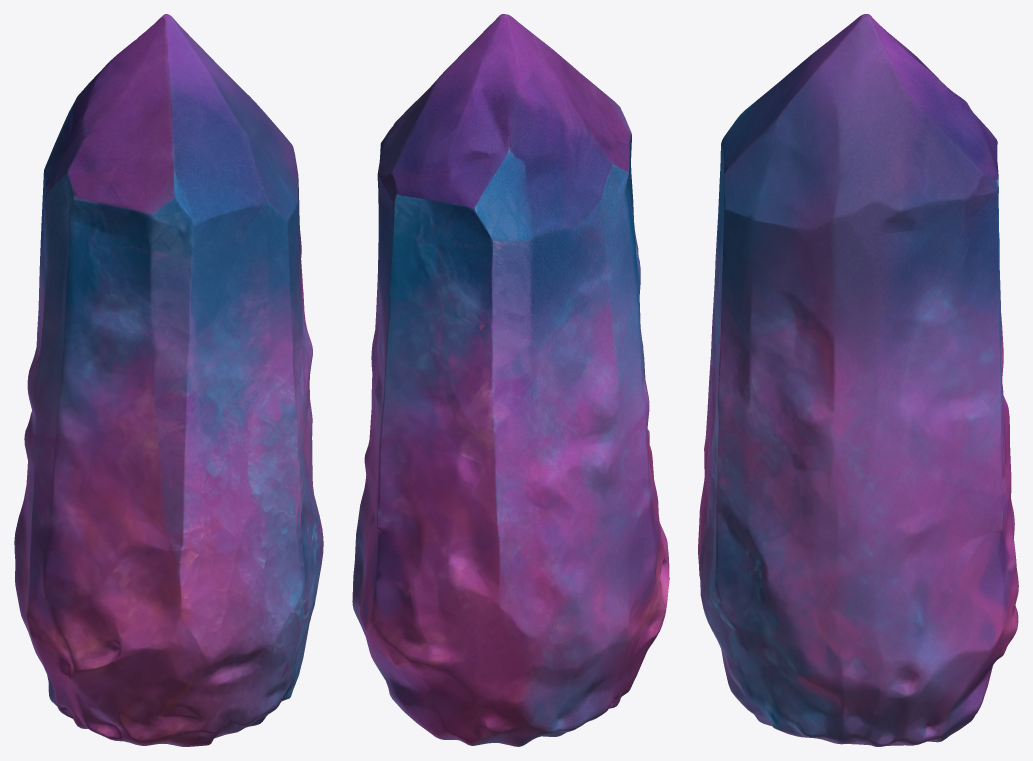
The model's file is mining_king_crystal.glb.
3 renders of one model, left to right at view 1: azimuth 30°, elevation 25°; view 2: azimuth 150°, elevation 25°; view 3: azimuth 270°, elevation 25°, orthographic.
Parts seen in each view (by area): view 1: Mesh_0; view 2: Mesh_0; view 3: Mesh_0.
Boxes of the visible parts, x1,y1,x2,y2 form: Mesh_0: (14,14,323,746); Mesh_0: (352,14,669,746); Mesh_0: (698,14,1018,746).
Bounding box in the file's own units: 0.7809 × 1.9 × 0.7832.
Materials: 1 (1 with a texture image).
